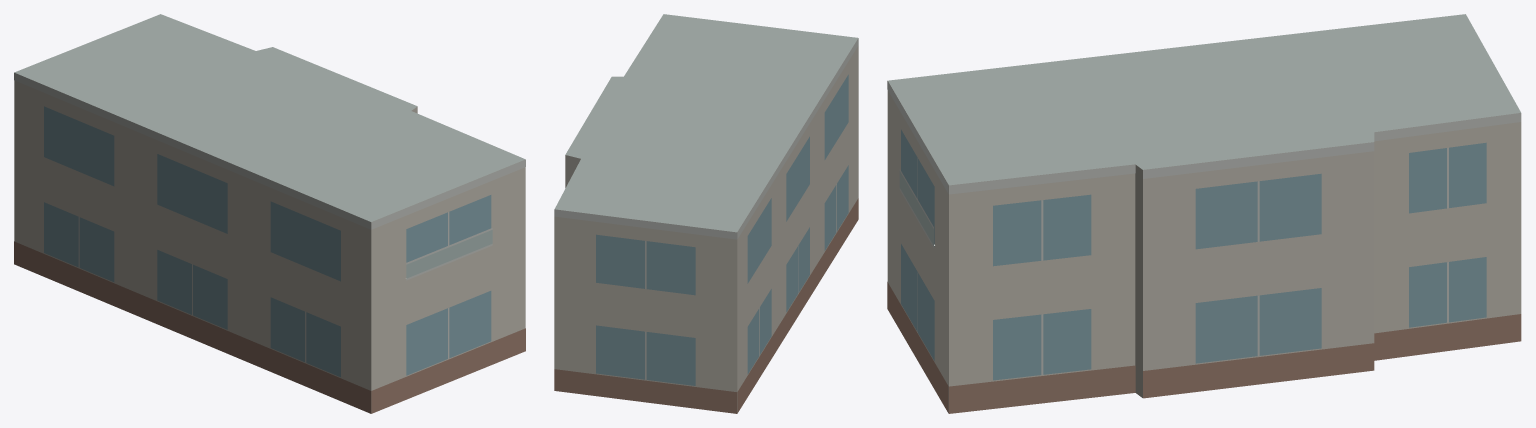
Rendered from survey-upis-32623685.glb.
The picture shows the model from 3 angles, left to right: view 1: azimuth 30°, elevation 25°; view 2: azimuth 150°, elevation 25°; view 3: azimuth 270°, elevation 25°; orthographic projection. The views are drawn at different scales.
Visible parts, largest first — view 1: survey-upis-32623685.tmp; view 2: survey-upis-32623685.tmp; view 3: survey-upis-32623685.tmp.
Part boxes in pixels (x1,y1,x2,y2): survey-upis-32623685.tmp: (14,14,525,413); survey-upis-32623685.tmp: (554,14,858,413); survey-upis-32623685.tmp: (887,14,1521,413).
Bounding box in the file's own units: 9.82 × 6.1 × 15.35.
